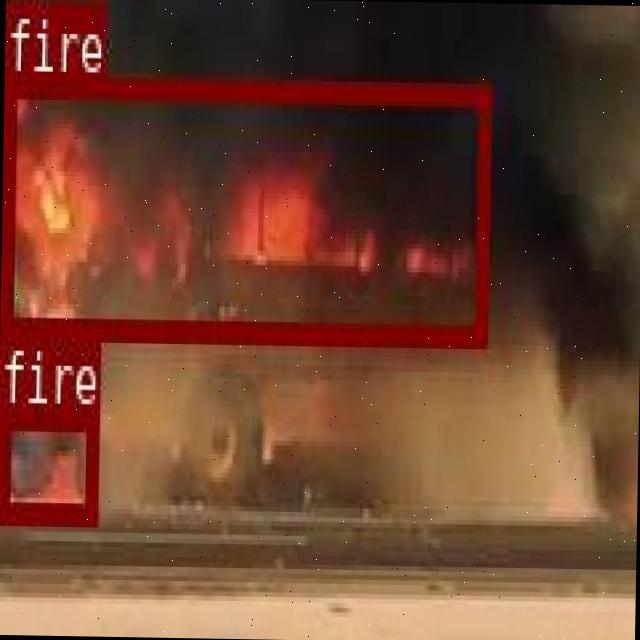fire: (0, 72, 489, 340), (0, 402, 97, 518)
